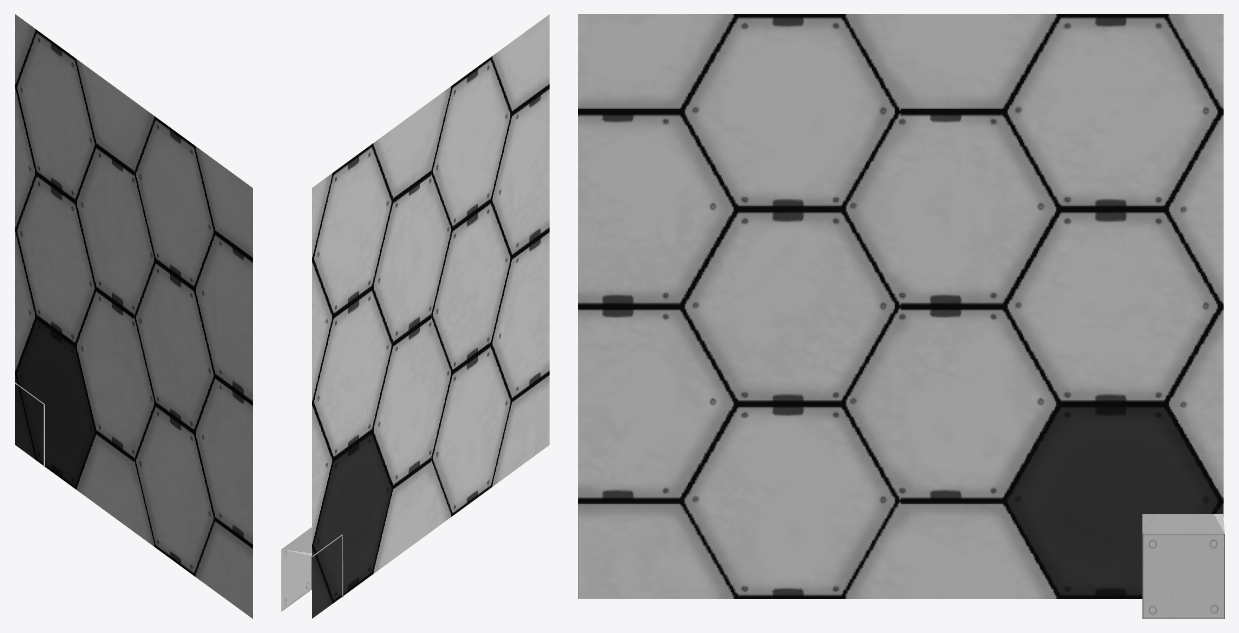
File: Wall_CornerBottomRight.fbx
3 views of the same model, side by side, from view 1: azimuth 30°, elevation 25°; view 2: azimuth 150°, elevation 25°; view 3: azimuth 270°, elevation 25° (orthographic). The views are drawn at different scales.
Parts seen in each view (by area): view 1: pPlane110; view 2: pPlane110; view 3: pPlane110.
Part boxes in pixels (<box>): pPlane110: <box>14,14,252,618</box>; pPlane110: <box>281,14,549,618</box>; pPlane110: <box>578,14,1224,618</box>.
Size of the model in its own units: 0.1534 by 2 by 2.
